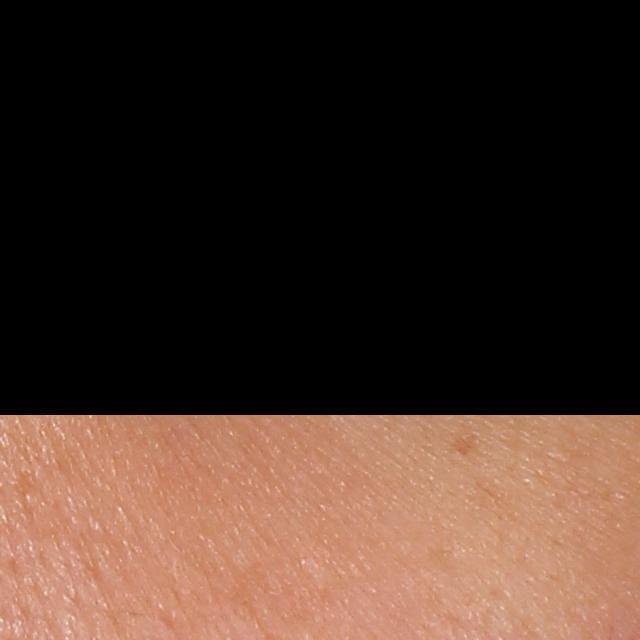melasma: (448, 429, 483, 459)
